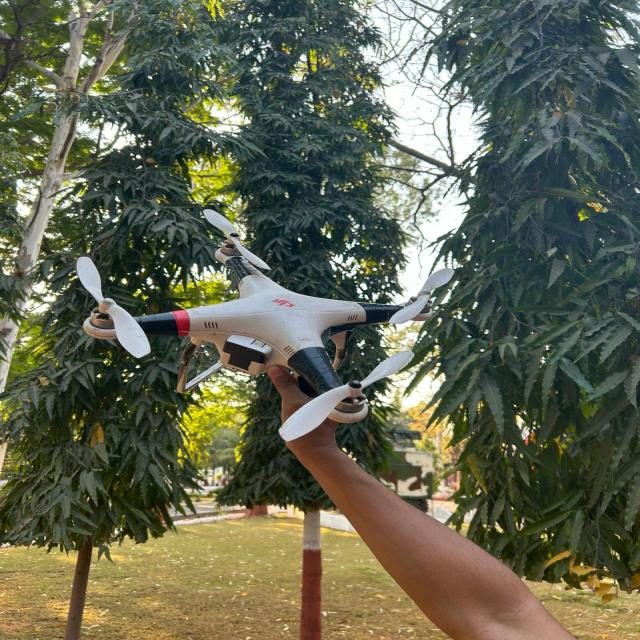drone: (62, 204, 484, 454)
